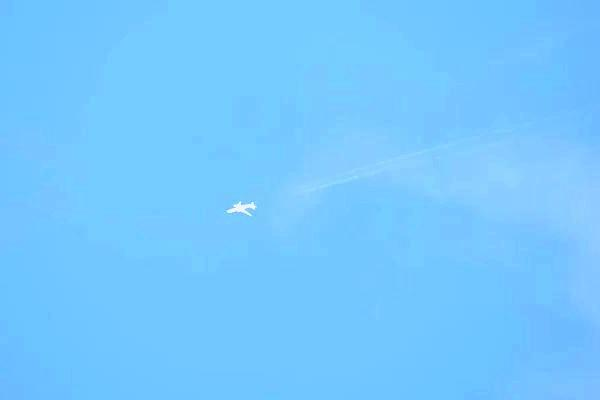Plane: (210, 192, 272, 225)
